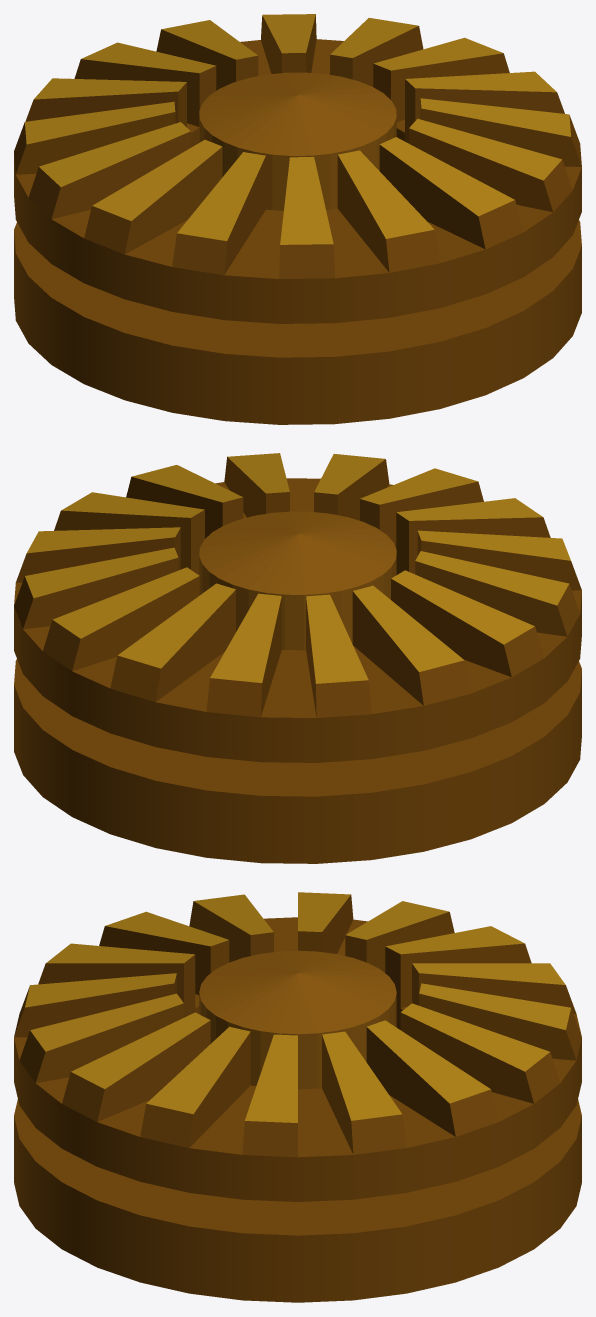
The model's file is gear.glb.
3 renders of one model, top to bottom at view 1: azimuth 30°, elevation 25°; view 2: azimuth 150°, elevation 25°; view 3: azimuth 270°, elevation 25°, orthographic.
Parts seen in each view (by area): view 1: 830-gear; view 2: 830-gear; view 3: 830-gear.
Part boxes in pixels (box(x1,y1,x2,y2)): 830-gear: box(14, 14, 581, 424); 830-gear: box(14, 453, 581, 863); 830-gear: box(14, 892, 581, 1302).
Size of the model in its own units: 1.15 by 0.4677 by 1.15.
1 material, 1 textured.
